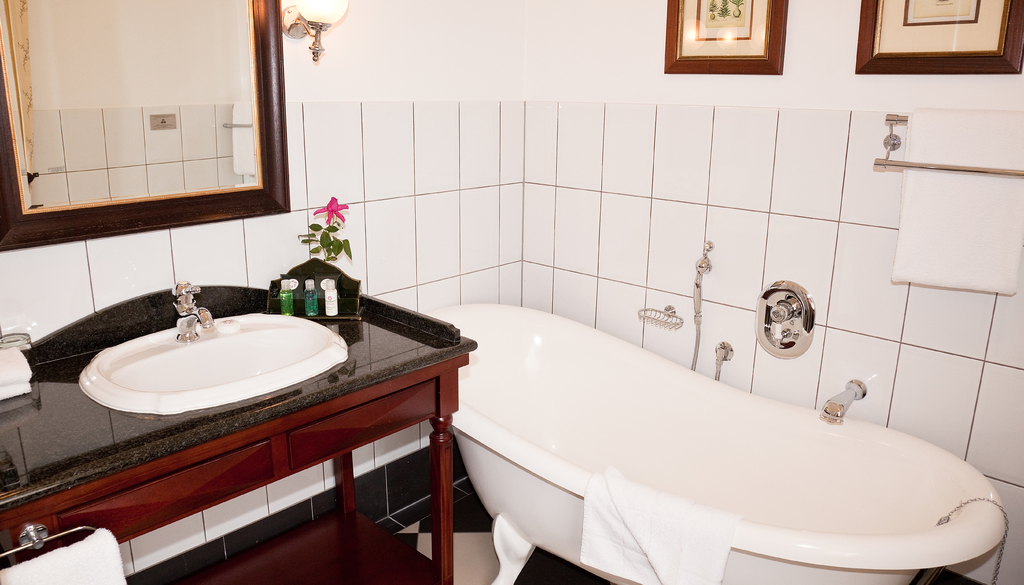tap: (813, 375, 865, 428), (172, 277, 211, 337)
